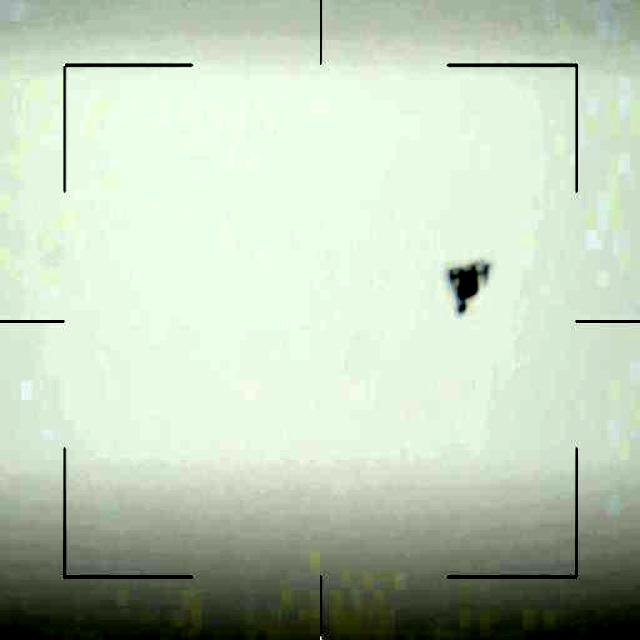bird: (439, 246, 499, 326)
